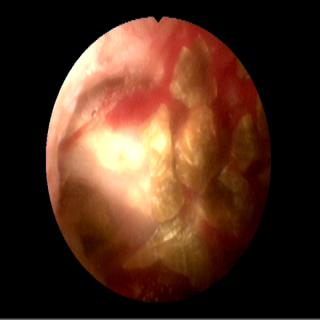stone: (124, 104, 210, 286), (170, 38, 217, 198), (219, 114, 256, 209)
